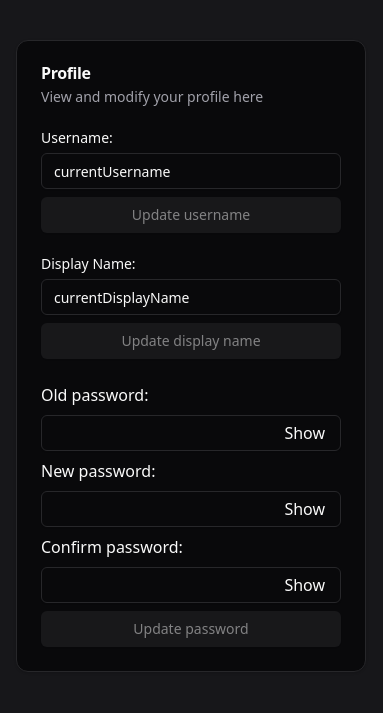
Profile Component › displays fallback error when updating display name fails
The width and height of the screenshot is (383, 713).
Replace the text in the field labelled "Display Name:" with "newDisplayName": [191, 297] box [41, 279, 341, 315]
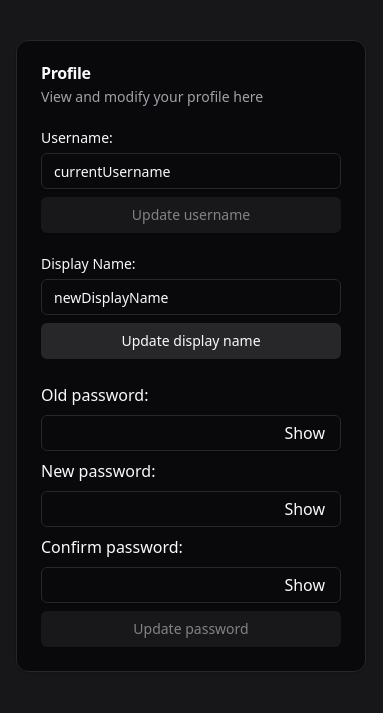
Click the button "Update display name": [191, 341] box [41, 323, 341, 359]
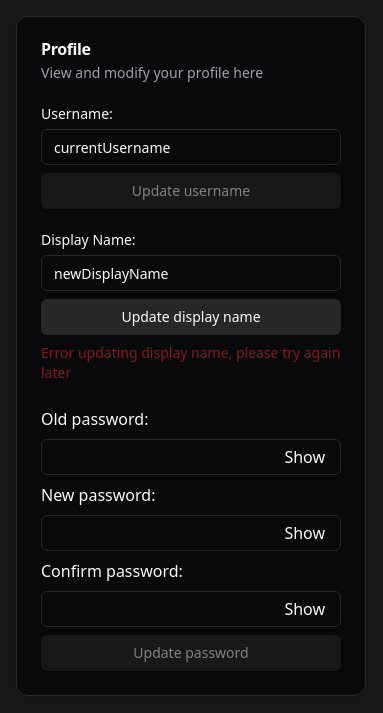
expect the heading "Error updating display name, please try again later" is shown: met, box [41, 343, 341, 383]
